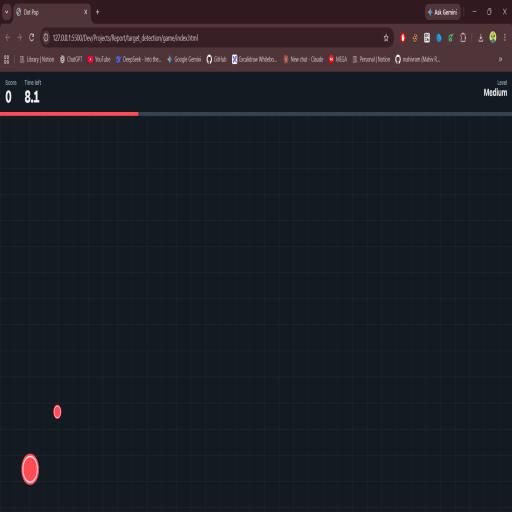Target-Detection: (21, 453, 40, 484), (53, 404, 61, 419)
